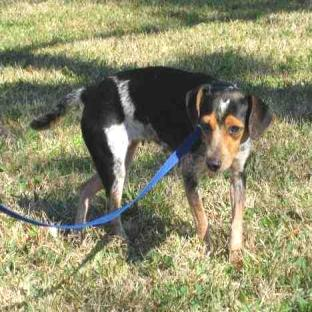Animal: (31, 67, 272, 261)
